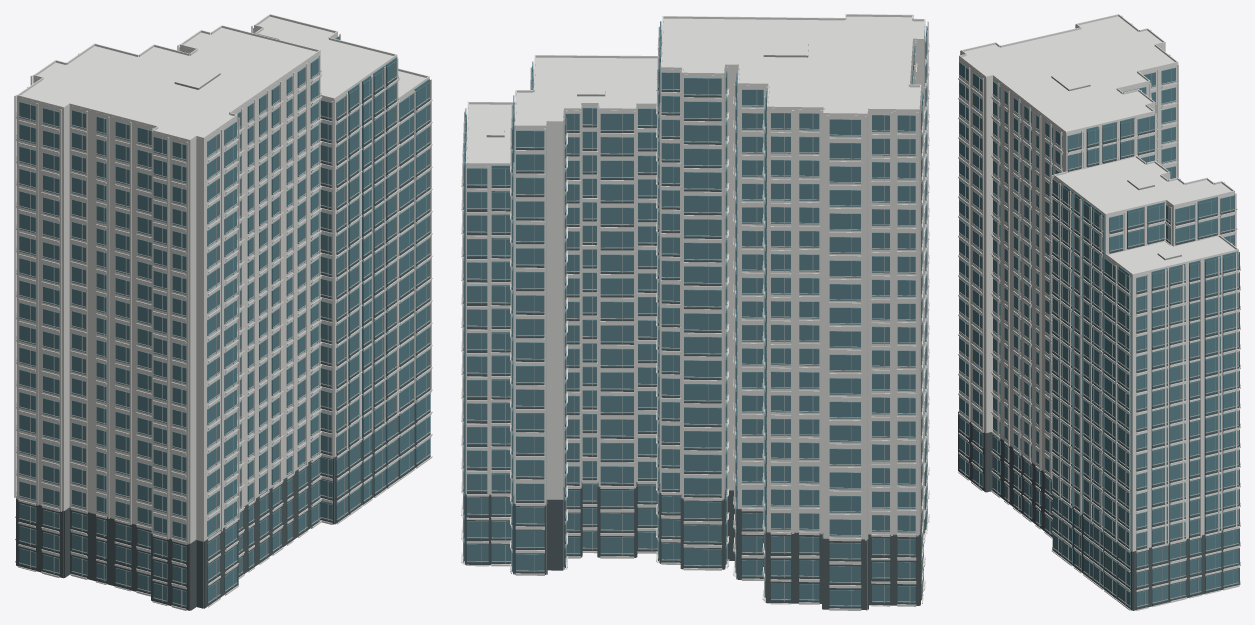
The model's file is bespoke-acro-riverpark-100-corrected.glb.
3 renders of one model, left to right at view 1: azimuth 30°, elevation 25°; view 2: azimuth 150°, elevation 25°; view 3: azimuth 270°, elevation 25°, orthographic. The views are drawn at different scales.
Parts seen in each view (by area): view 1: 100_region-0_100_Warm_pale_planes001, 100_region-0_100_Blue_grey_glazing001, 100_region-0_100_Silver_thin_mullions001, 100_region-0_100_Charcoal_lower_storeys001; view 2: 100_region-0_100_Blue_grey_glazing001, 100_region-0_100_Warm_pale_planes001, 100_region-0_100_Charcoal_lower_storeys001, 100_region-0_100_Silver_thin_mullions001; view 3: 100_region-0_100_Warm_pale_planes001, 100_region-0_100_Blue_grey_glazing001, 100_region-0_100_Silver_thin_mullions001, 100_region-0_100_Charcoal_lower_storeys001.
Boxes of the visible parts, box(x1,y1,x2,y2) form: 100_region-0_100_Warm_pale_planes001: box(14, 14, 432, 610); 100_region-0_100_Blue_grey_glazing001: box(19, 28, 430, 606); 100_region-0_100_Silver_thin_mullions001: box(16, 52, 430, 606); 100_region-0_100_Charcoal_lower_storeys001: box(16, 76, 430, 610); 100_region-0_100_Blue_grey_glazing001: box(463, 21, 927, 606); 100_region-0_100_Warm_pale_planes001: box(461, 14, 929, 610); 100_region-0_100_Charcoal_lower_storeys001: box(463, 88, 925, 610); 100_region-0_100_Silver_thin_mullions001: box(463, 27, 927, 607); 100_region-0_100_Warm_pale_planes001: box(958, 14, 1240, 610); 100_region-0_100_Blue_grey_glazing001: box(959, 62, 1239, 608); 100_region-0_100_Silver_thin_mullions001: box(959, 66, 1240, 606); 100_region-0_100_Charcoal_lower_storeys001: box(958, 130, 1240, 610).
Bounding box in the file's own units: 69.5 × 74 × 45.64.
